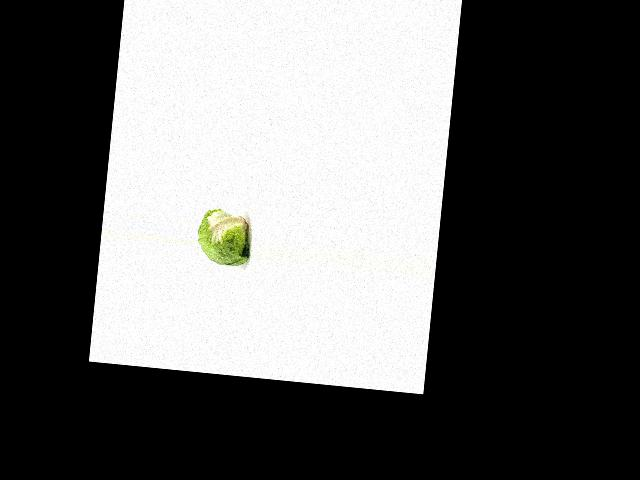lettuce: (195, 206, 256, 269)
